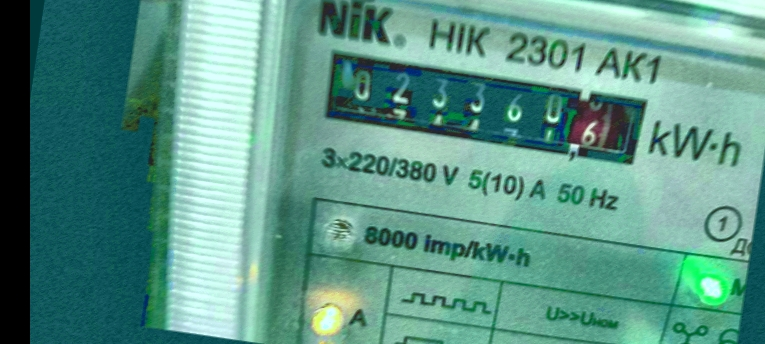0: (350, 65, 377, 103), (541, 89, 568, 127)
2: (390, 69, 416, 107)
3: (428, 75, 453, 112), (467, 79, 490, 116)
6: (503, 88, 528, 124), (579, 114, 601, 149)
screen: (307, 37, 669, 186)
